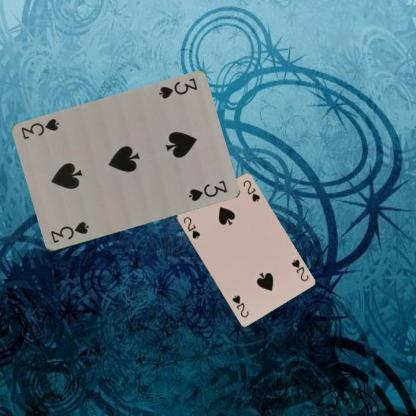2s: (180, 214, 201, 240), (289, 256, 310, 282)
3s: (156, 75, 198, 101), (48, 219, 90, 244)
